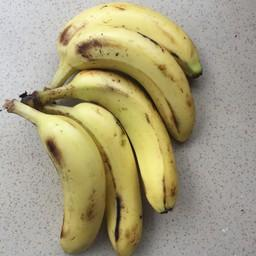Banana Ripe: (37, 82, 159, 256), (51, 71, 179, 230), (37, 12, 200, 135), (4, 91, 109, 250), (41, 0, 218, 86)
